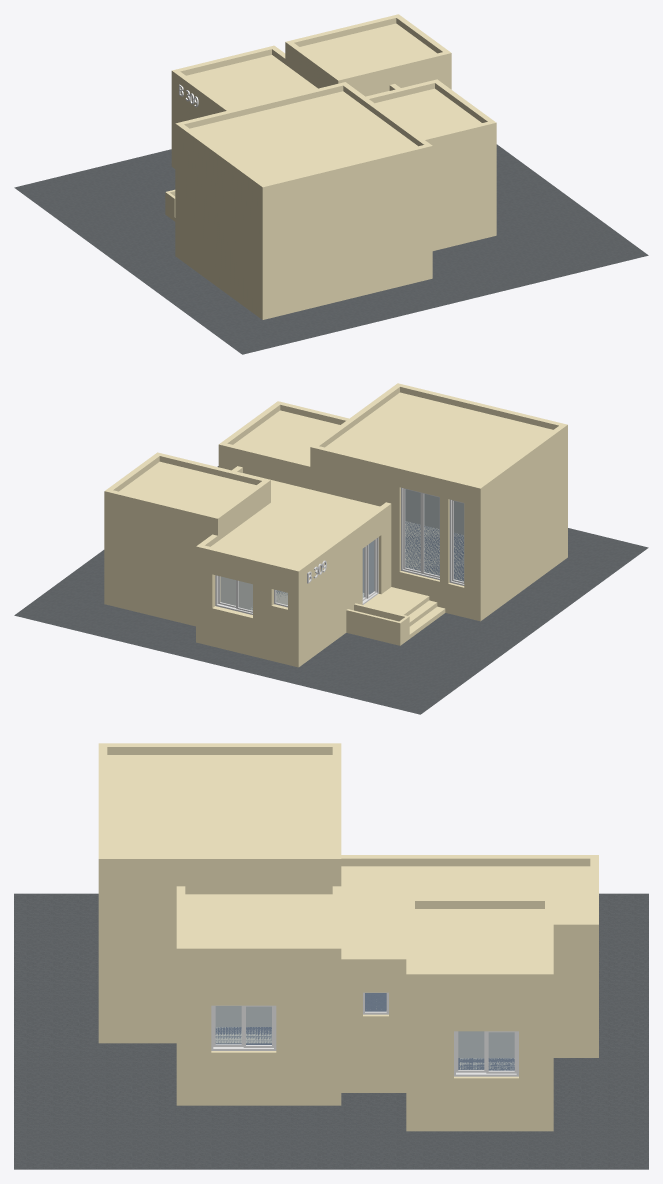
3 views of the same model, one above another, from view 1: azimuth 30°, elevation 25°; view 2: azimuth 150°, elevation 25°; view 3: azimuth 270°, elevation 25° (orthographic). The views are drawn at different scales.
Visible parts, largest first — view 1: 24559, Root Node; view 2: 24559, Root Node, 25574, B 309; view 3: 24559, Root Node, 25574, B 309.
Boxes of the visible parts, x1=… form: 24559: x1=165, y1=14, x2=496, y2=319; Root Node: x1=14, y1=144, x2=648, y2=354; 24559: x1=104, y1=383, x2=567, y2=667; Root Node: x1=14, y1=466, x2=648, y2=714; 25574: x1=220, y1=489, x2=463, y2=610; B 309: x1=215, y1=487, x2=464, y2=614; 24559: x1=98, y1=743, x2=598, y2=1131; Root Node: x1=14, y1=893, x2=648, y2=1169; 25574: x1=215, y1=993, x2=514, y2=1070; B 309: x1=211, y1=992, x2=518, y2=1076.
Bounding box in the file's own units: 15.06 × 4.7 × 14.65.
Materials: 4 (1 with a texture image).
